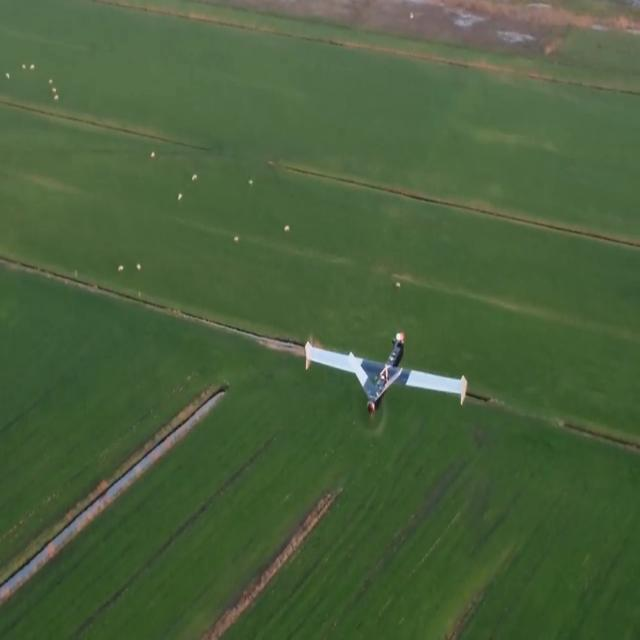iha: (303, 350, 466, 390)
